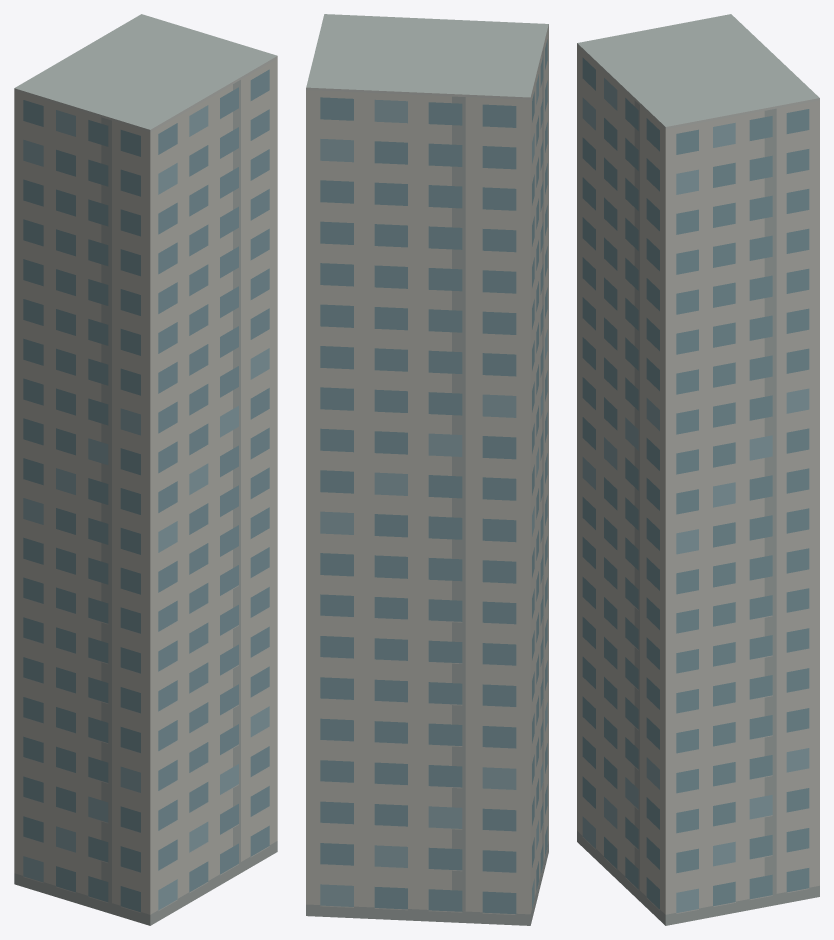
The model's file is residential-629304c6-9683-4531-a3b7-317897a0c6ba.glb.
The picture shows the model from 3 angles, left to right: view 1: azimuth 30°, elevation 25°; view 2: azimuth 150°, elevation 25°; view 3: azimuth 270°, elevation 25°; orthographic projection. The views are drawn at different scales.
Parts seen in each view (by area): view 1: residential-629304c6-9683-4531-a3b7-317897a0c6ba.tmp; view 2: residential-629304c6-9683-4531-a3b7-317897a0c6ba.tmp; view 3: residential-629304c6-9683-4531-a3b7-317897a0c6ba.tmp.
Part boxes in pixels (x1,y1,x2,y2): residential-629304c6-9683-4531-a3b7-317897a0c6ba.tmp: (14, 14, 277, 925); residential-629304c6-9683-4531-a3b7-317897a0c6ba.tmp: (306, 14, 548, 925); residential-629304c6-9683-4531-a3b7-317897a0c6ba.tmp: (577, 14, 819, 925).
Bounding box in the file's own units: 24.29 × 80 × 22.04.
